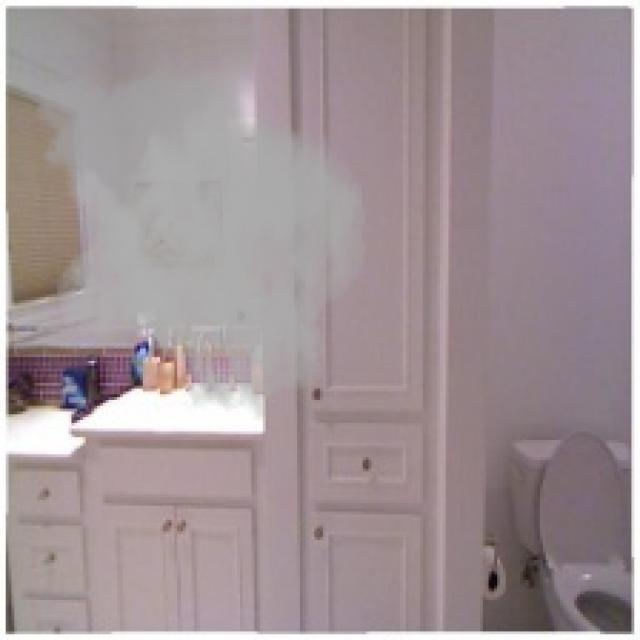Smoke: (20, 54, 369, 423)
